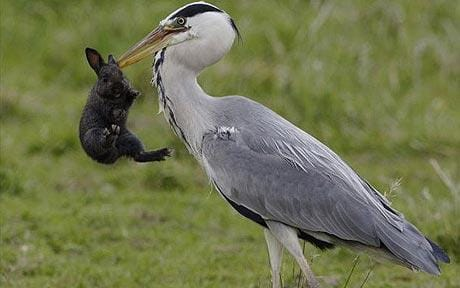heron: (79, 2, 446, 284)
